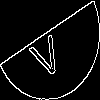V: (25, 25, 66, 81)
